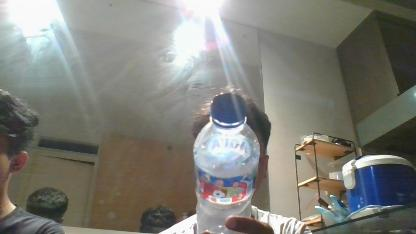Plastic Bottle: (192, 92, 260, 234)
